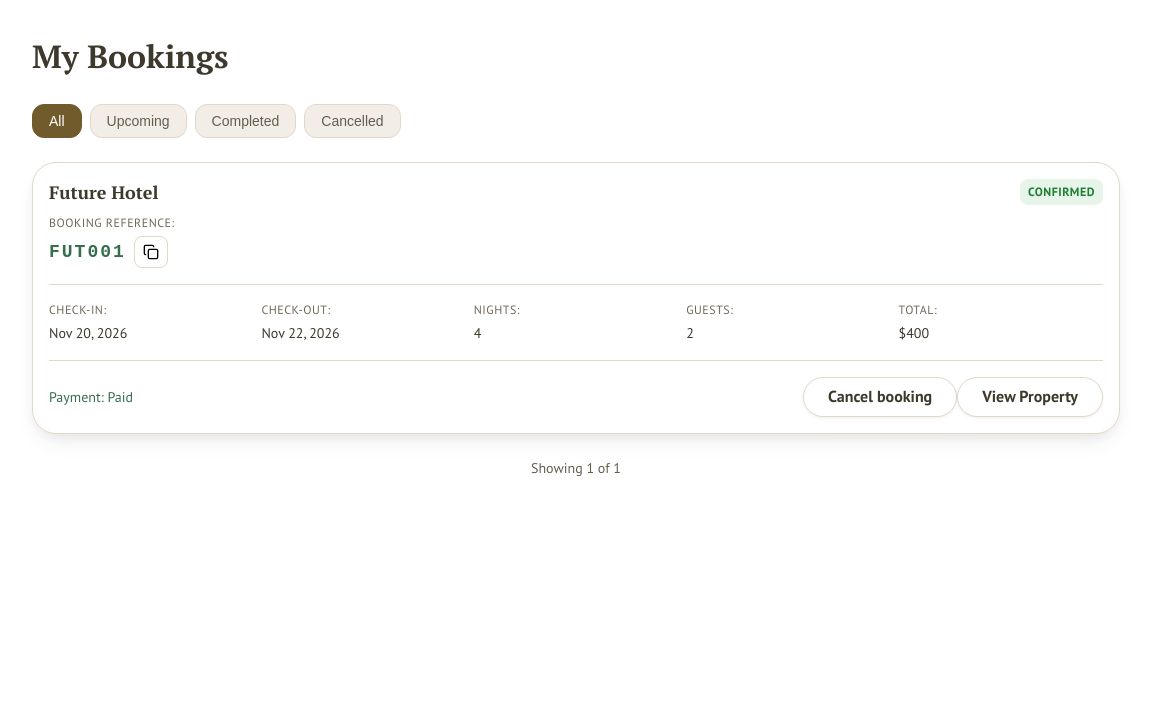
BookingsPage › Cancelling a booking (free, cash at the hotel) › Keep booking leaves everything as it was
What coordinates should you click on to do the following:
click the button "Cancel booking"
I would click on:
 (880, 397)
Its box is [803,377,957,417].
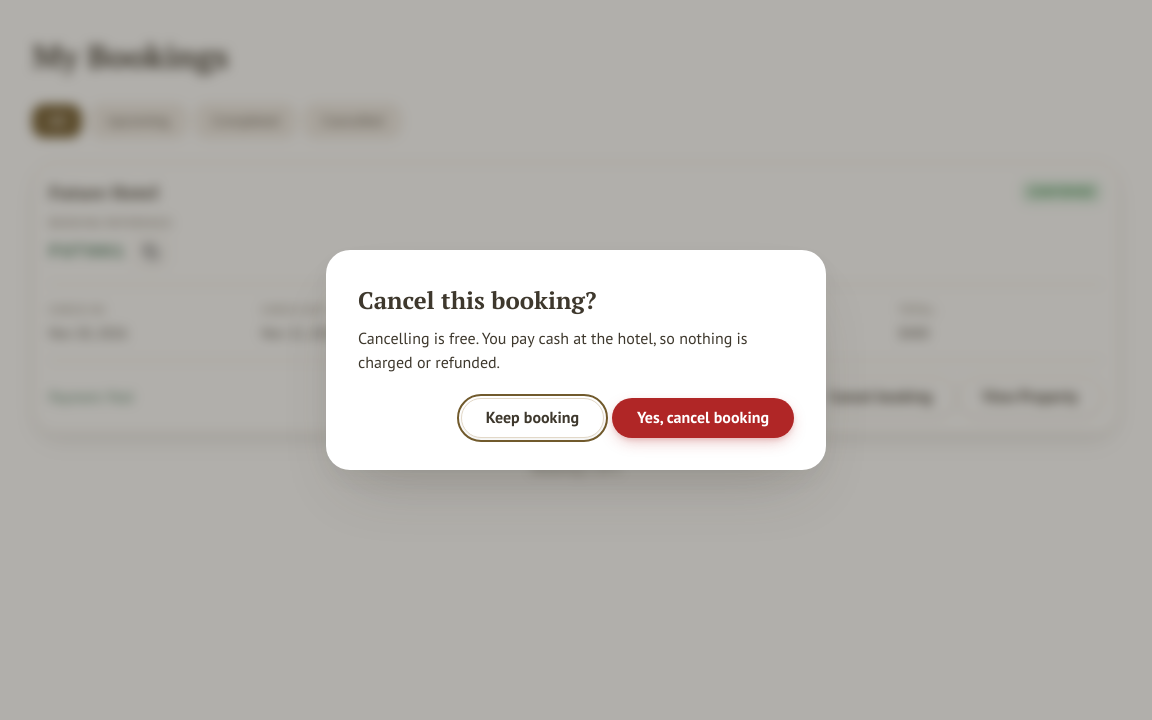
Now the text "Cancelling is free" is shown, box [358,328,748,372]
What coordinates should you click on to do the following:
click the button "Keep booking"
I would click on:
 (532, 418)
Its box is [461,398,604,438].
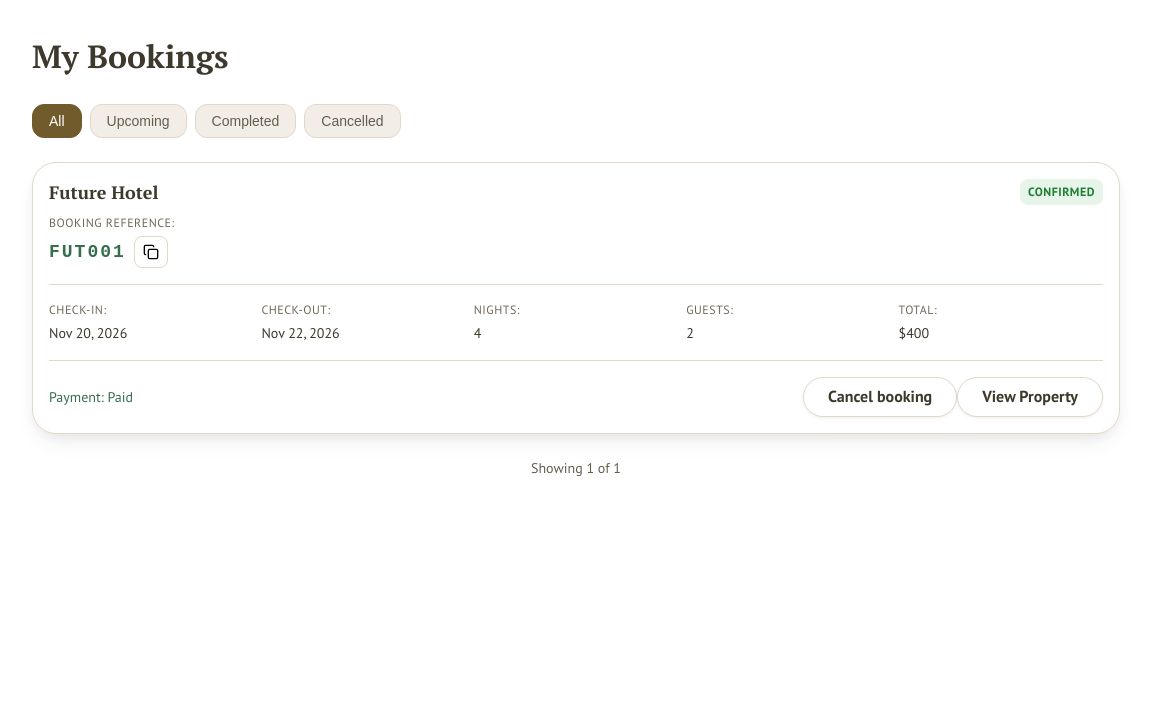
Expected: the button "Cancel booking" is shown, [803,377,957,417]
Now the dialog is gone
